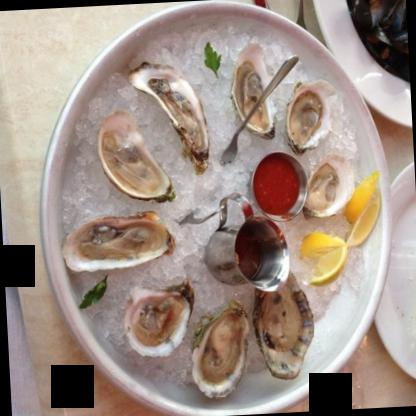oyster: (125, 60, 210, 164), (96, 108, 172, 206), (248, 272, 312, 388), (56, 209, 167, 270), (186, 304, 256, 395), (120, 282, 196, 356), (223, 38, 278, 139), (280, 80, 341, 160), (296, 158, 352, 213)
